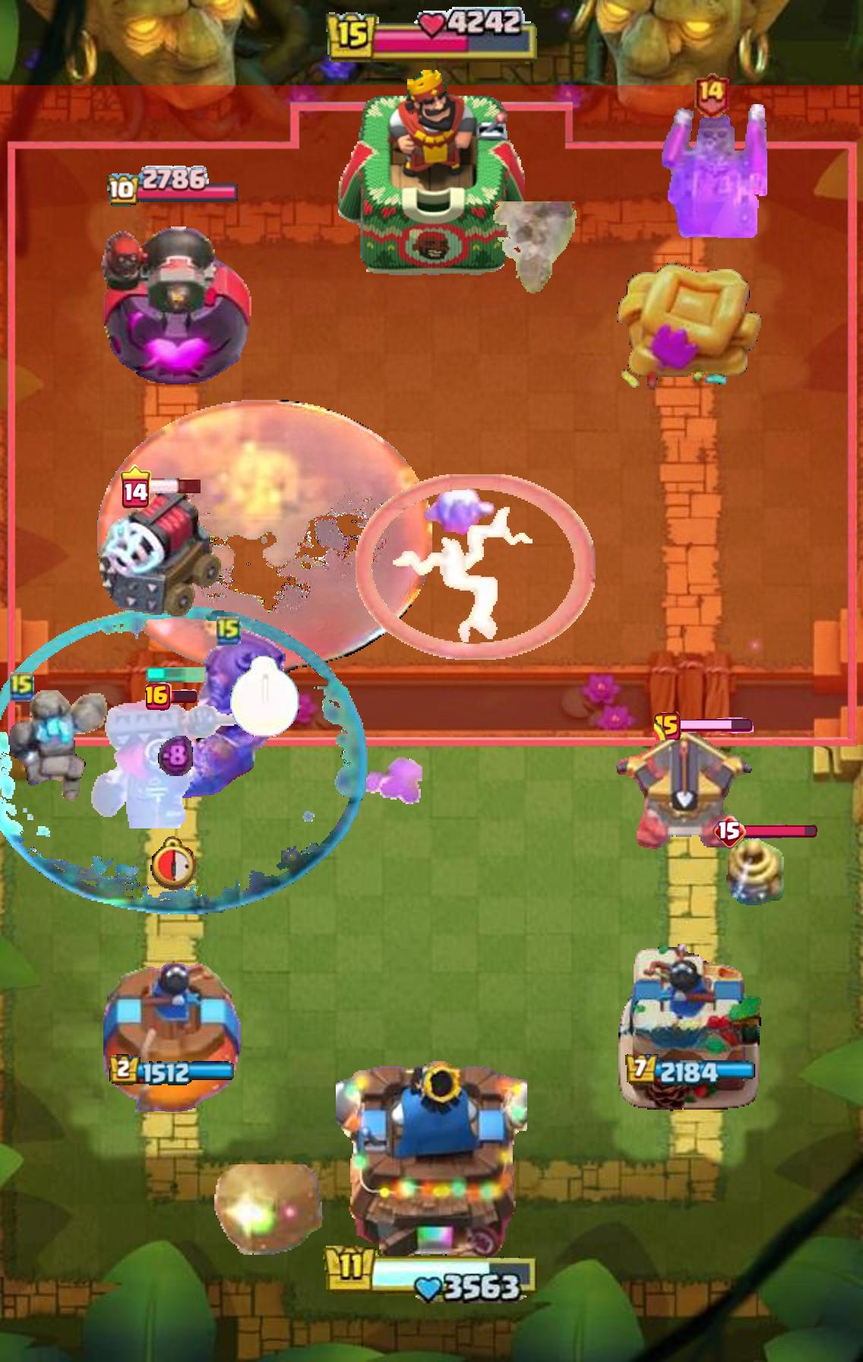bar: (678, 718, 754, 735), (744, 824, 818, 839), (147, 477, 203, 496), (168, 689, 197, 703)
bar-level: (692, 71, 730, 118), (120, 464, 151, 508), (713, 814, 748, 849), (654, 712, 681, 741), (145, 682, 171, 710)
